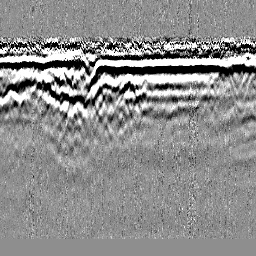cavity: (118, 74, 138, 102)
